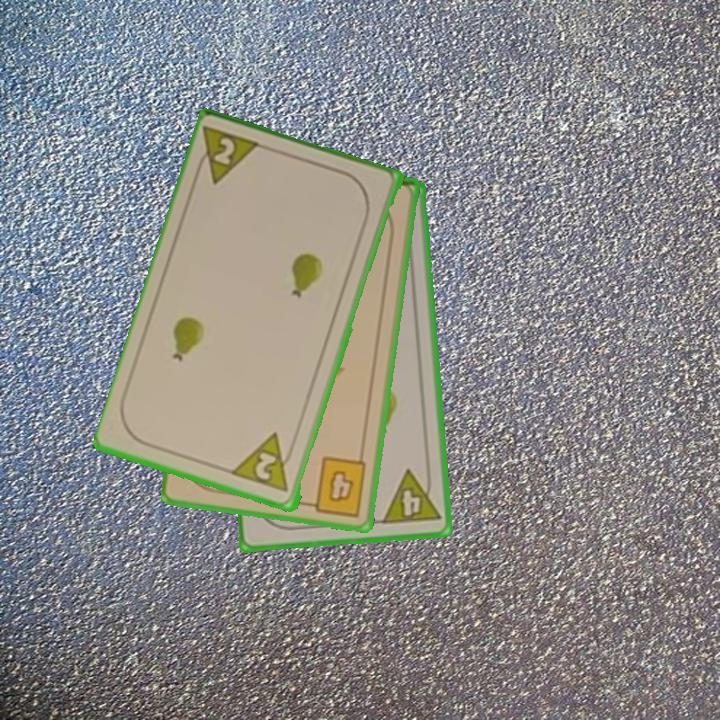2p: (191, 123, 267, 189), (230, 430, 297, 496)
4b: (301, 453, 370, 520)
4p: (378, 465, 443, 528)
